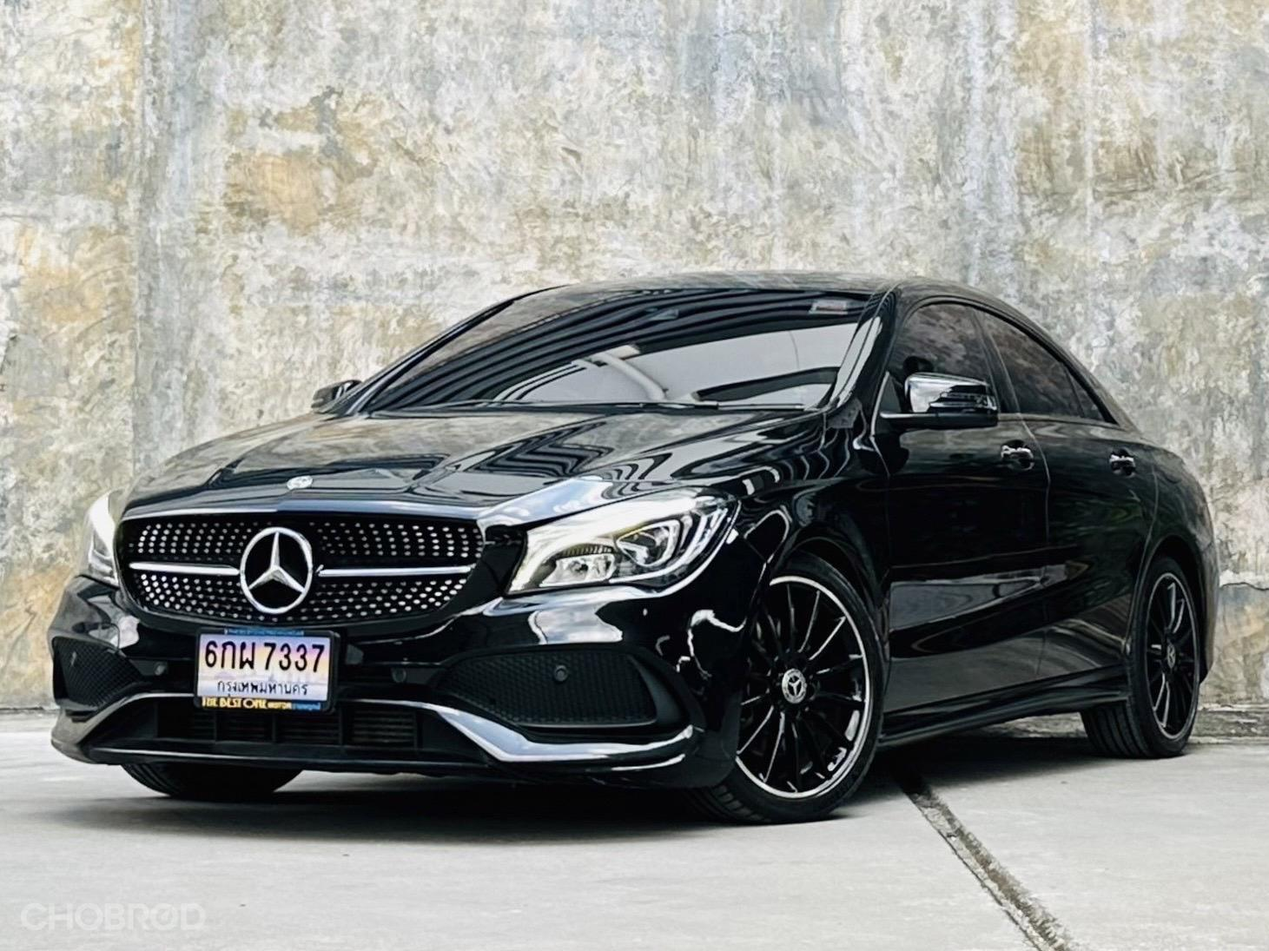license-plate: (193, 629, 336, 710)
